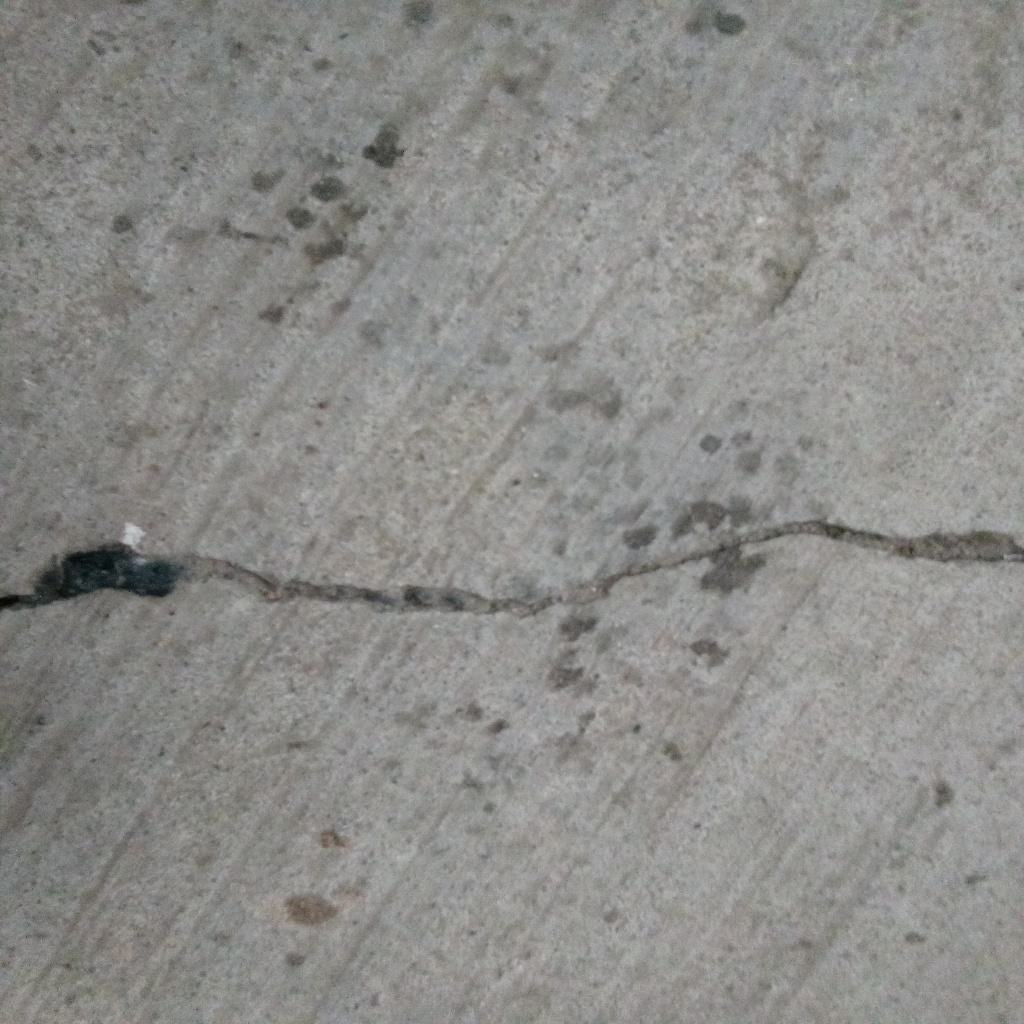Crack: (1, 518, 1024, 622)
